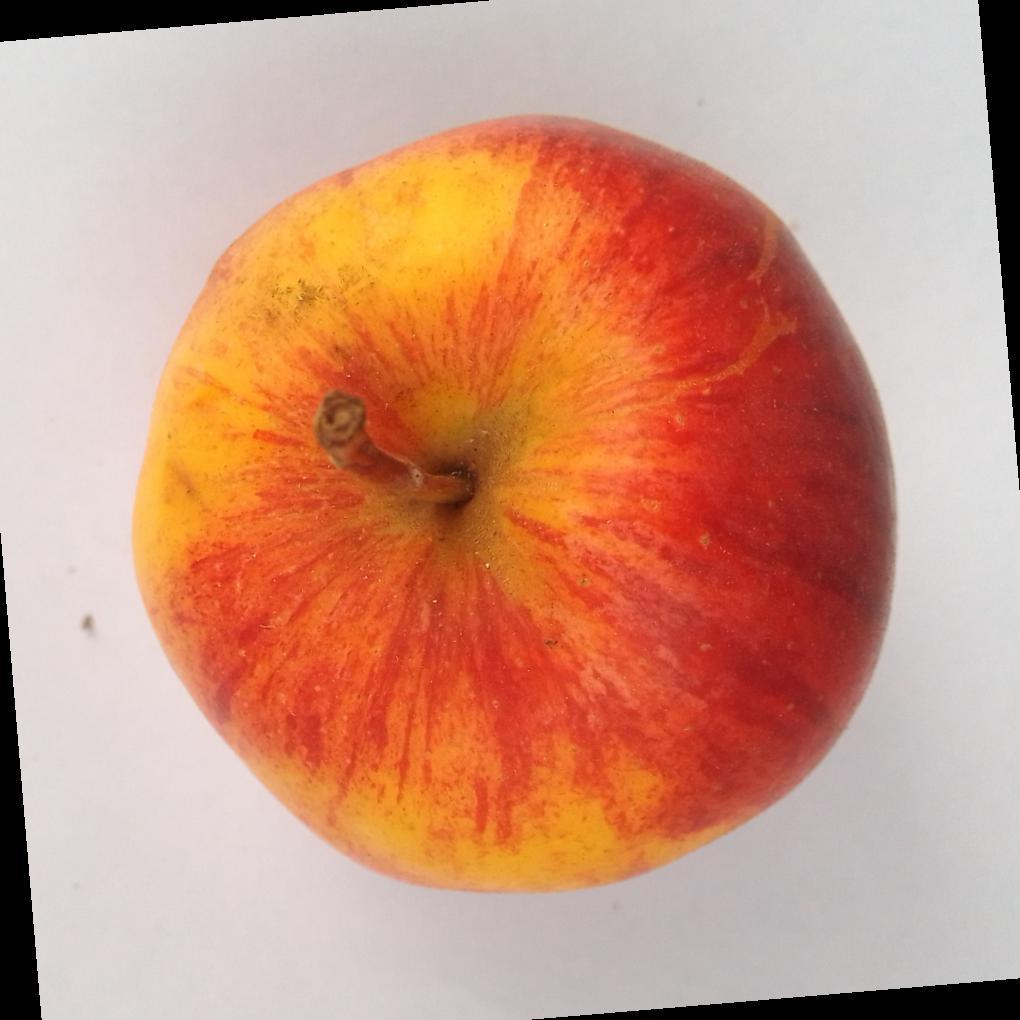FreshGuava: (128, 117, 899, 899)
